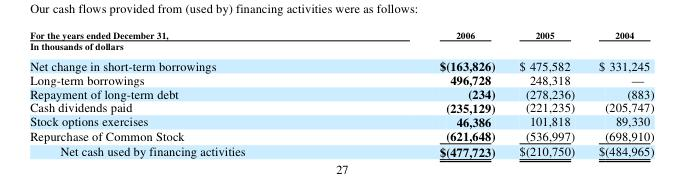table: (29, 28, 653, 158)
table column: (29, 28, 341, 158), (341, 28, 506, 158), (506, 28, 586, 158), (586, 28, 653, 158)
table column header: (29, 28, 653, 39)
table projected row header: (29, 39, 653, 54)
table row: (29, 54, 653, 72), (29, 39, 653, 54), (29, 128, 653, 143), (29, 143, 653, 158), (29, 72, 653, 86), (29, 86, 653, 100), (29, 100, 653, 114), (29, 114, 653, 128), (29, 28, 653, 39)
